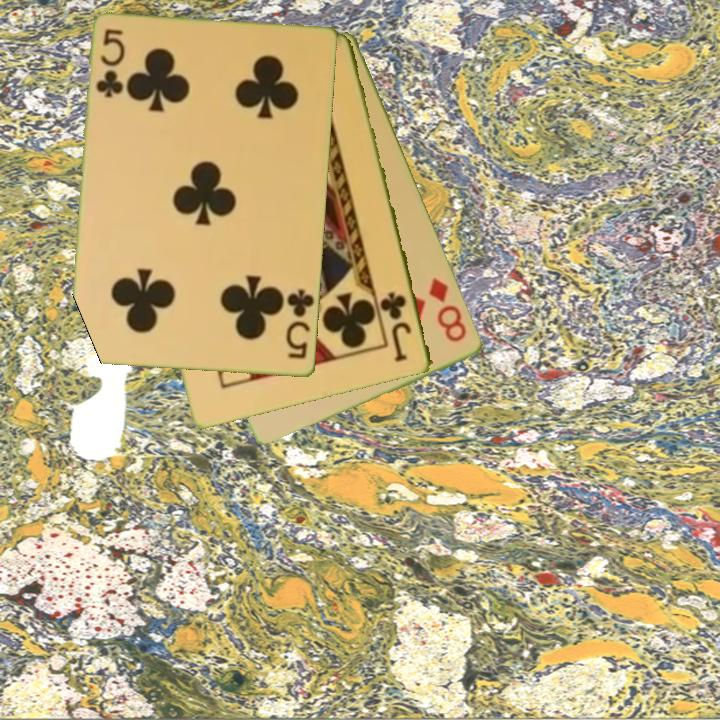5c: (283, 286, 317, 363), (93, 26, 127, 101)
8d: (426, 274, 470, 346)
Jc: (378, 288, 415, 365)
